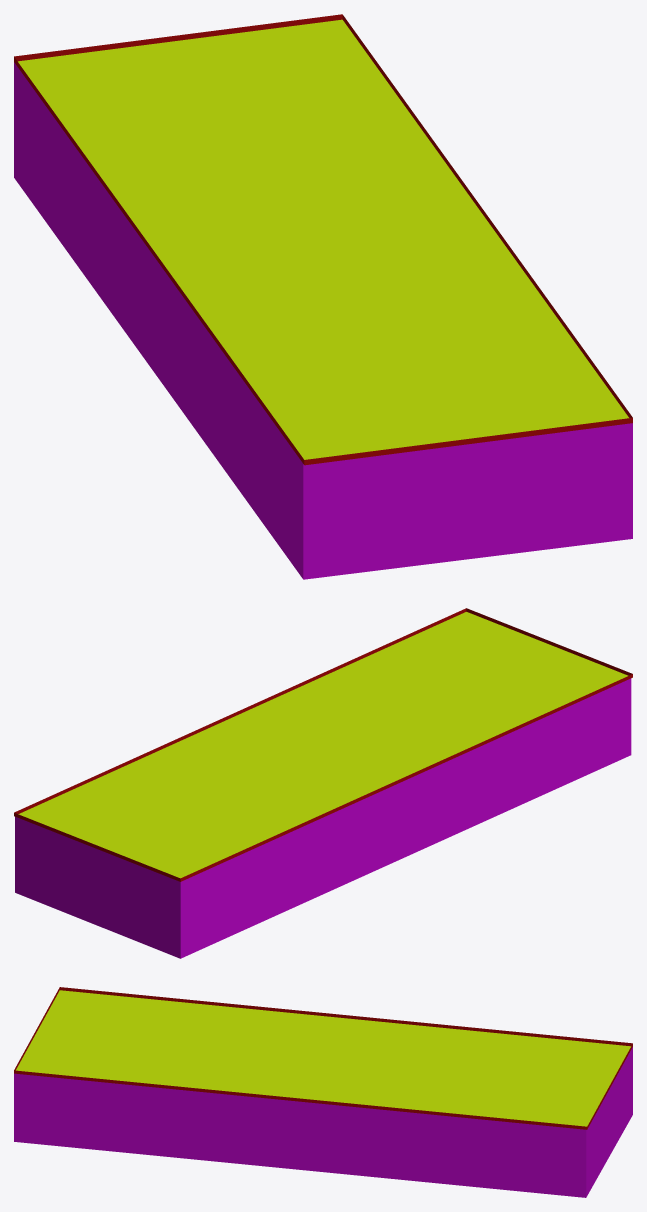
File: ssv_67.glb
The picture shows the model from 3 angles, top to bottom: view 1: azimuth 30°, elevation 25°; view 2: azimuth 150°, elevation 25°; view 3: azimuth 270°, elevation 25°; orthographic projection. The views are drawn at different scales.
Parts seen in each view (by area): view 1: ssv_67; view 2: ssv_67; view 3: ssv_67.
Part boxes in pixels (x1,y1,x2,y2): ssv_67: [14, 14, 632, 579]; ssv_67: [14, 608, 632, 958]; ssv_67: [14, 987, 632, 1197].
Bounding box in the file's own units: 33.02 × 7.88 × 61.86.
